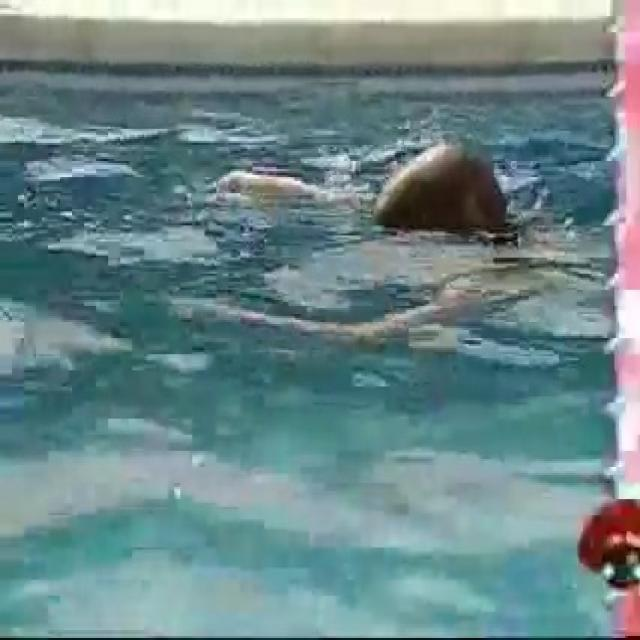Drowning: (198, 135, 556, 391)
